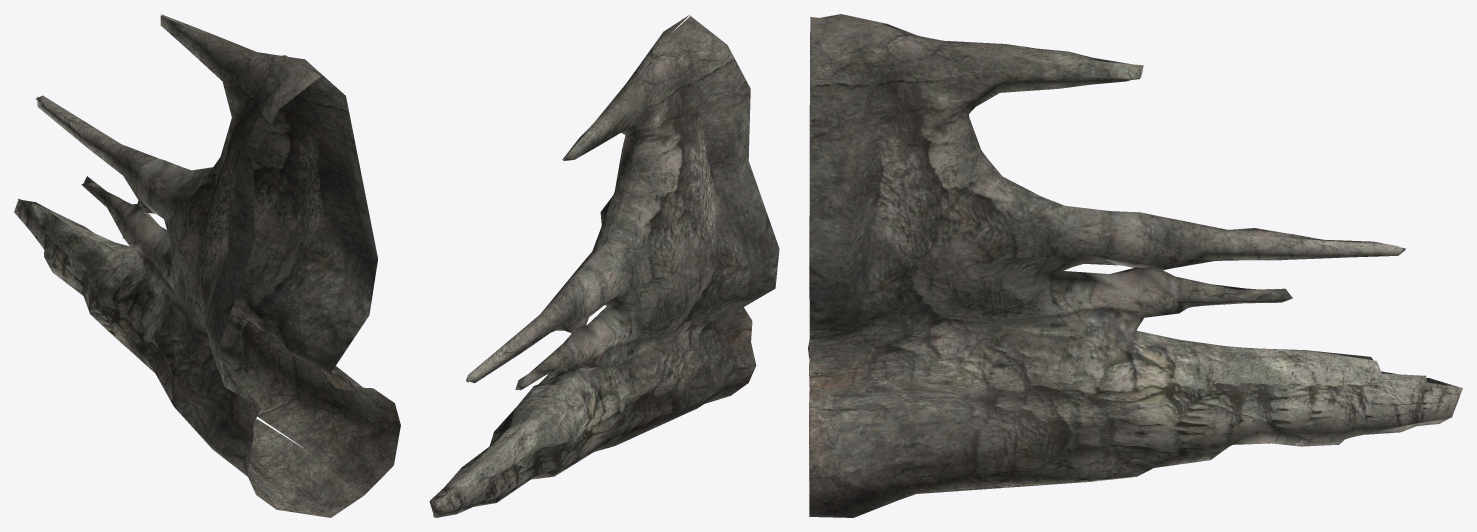
File: tdr_h_stal_b.obj
3 renders of one model, left to right at view 1: azimuth 30°, elevation 25°; view 2: azimuth 150°, elevation 25°; view 3: azimuth 270°, elevation 25°, orthographic. The views are drawn at different scales.
Visible parts, largest first — view 1: tdr_h_stal_b; view 2: tdr_h_stal_b; view 3: tdr_h_stal_b.
Boxes of the visible parts, x1,y1,x2,y2 form: tdr_h_stal_b: (14, 14, 400, 517); tdr_h_stal_b: (429, 15, 779, 517); tdr_h_stal_b: (808, 14, 1462, 517).
Bounding box in the file's own units: 528 × 1249 × 1504.
Materials: 1 (1 with a texture image).
